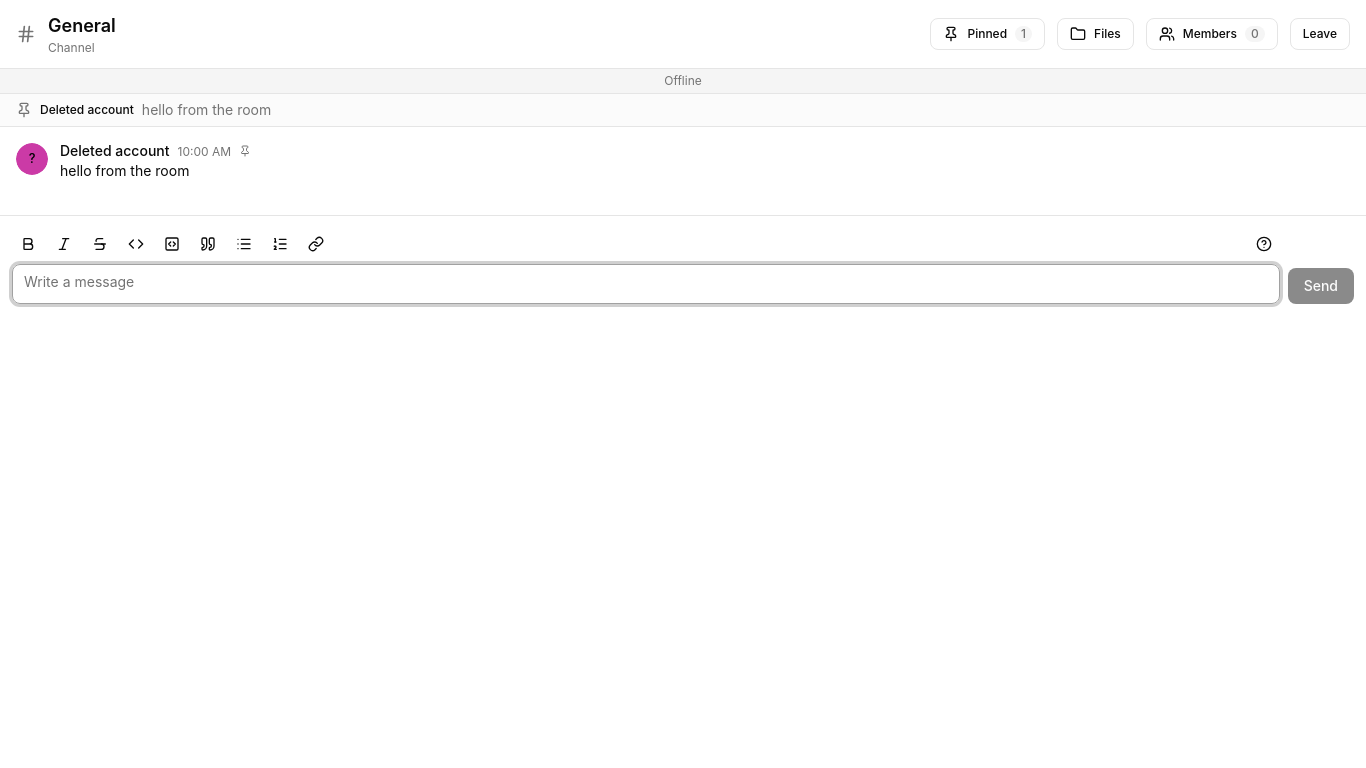
jumps in place to a pinned message that is loaded, and closes the panel
The image size is (1366, 768).
Click the button "Pinned 1" at (988, 34), box [930,18,1045,50]
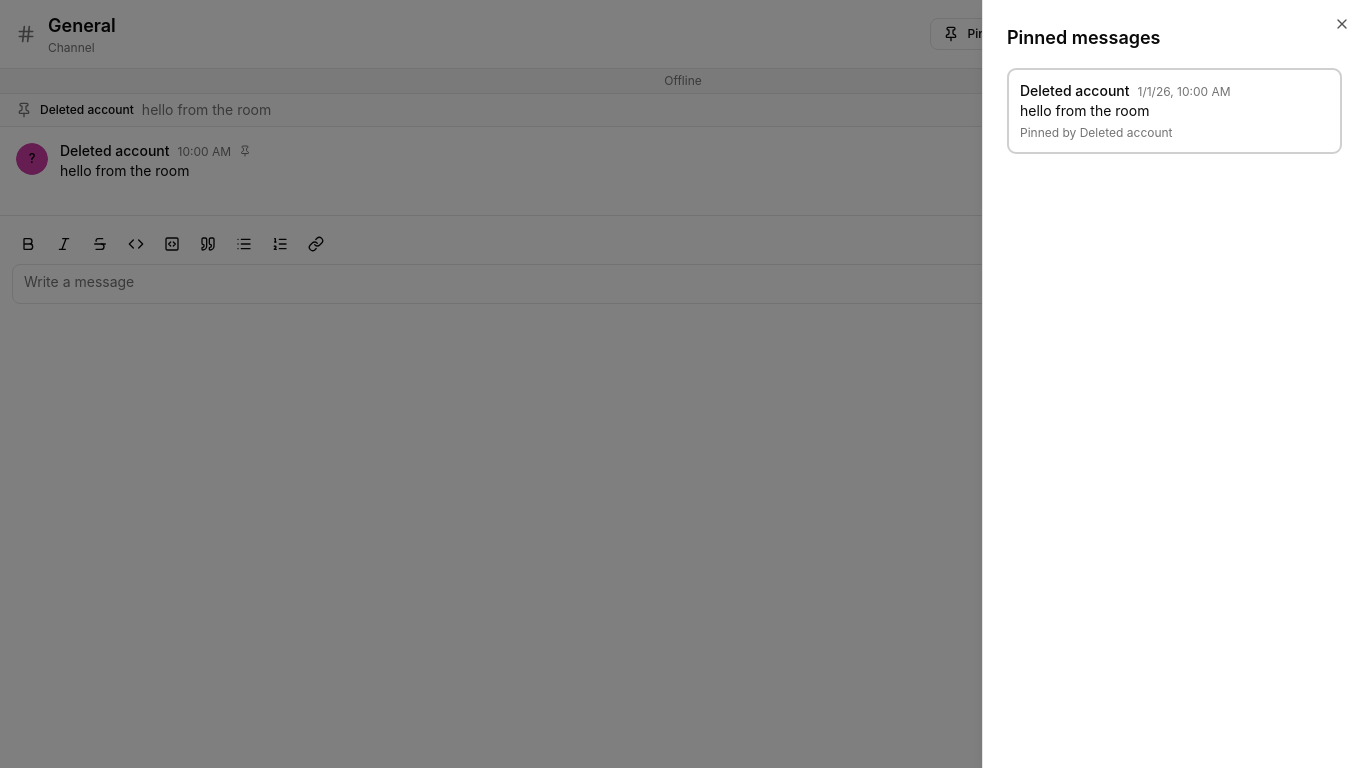
Click the button "hello from the room" at (1075, 90), box [1007,68,1342,154]
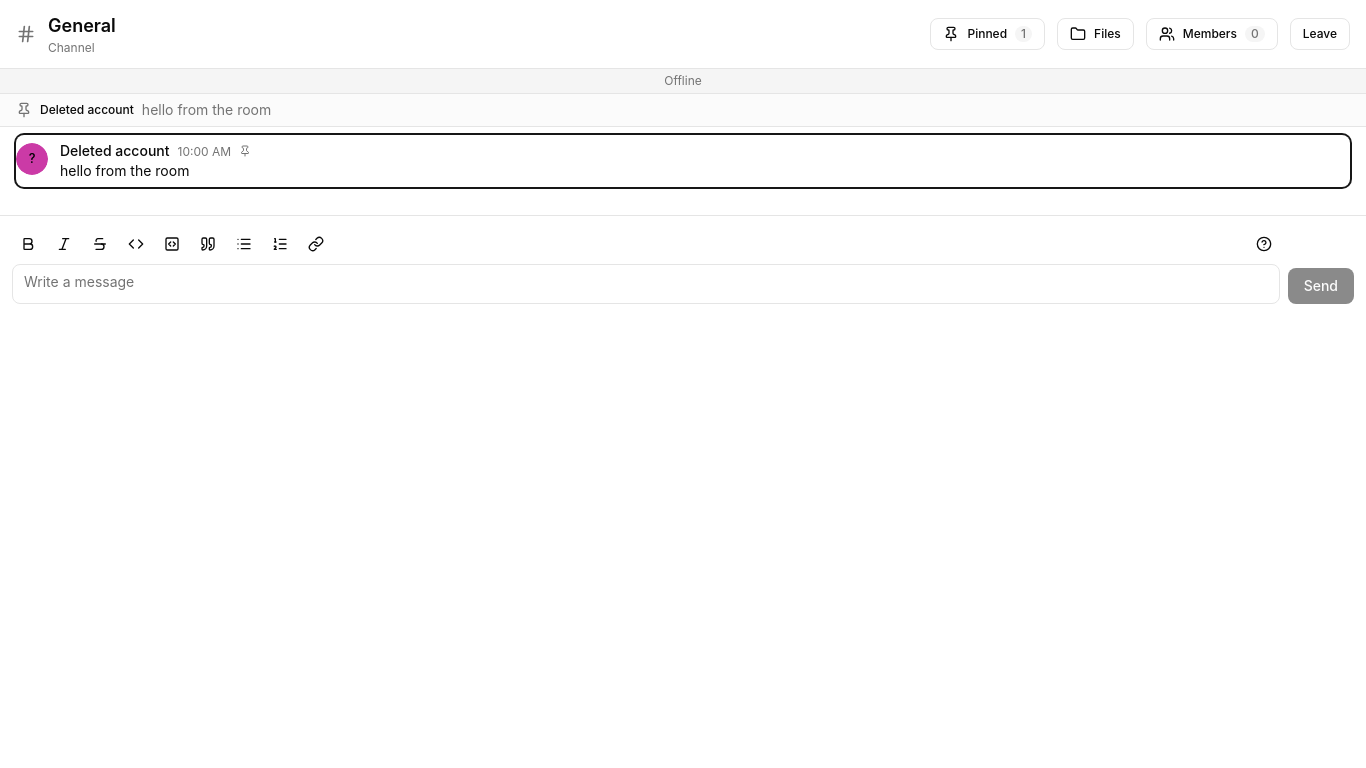
Now the heading "Pinned messages" is gone
